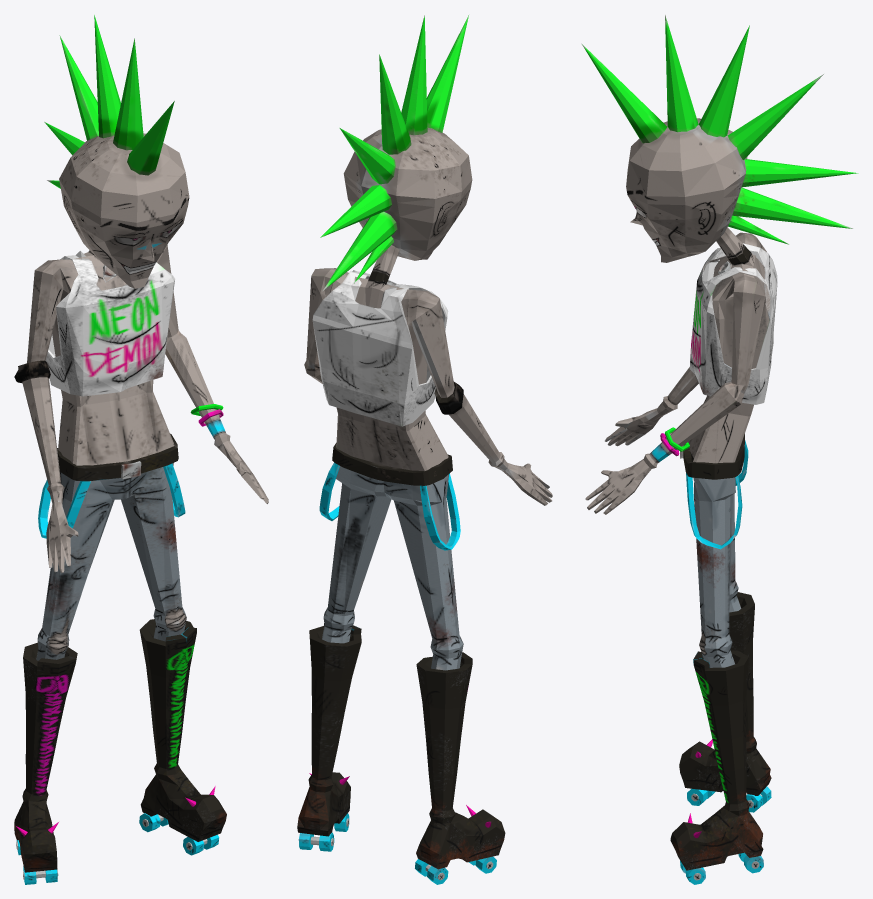
Rendered from punkAnimation_000002.obj.
The picture shows the model from 3 angles, left to right: view 1: azimuth 30°, elevation 25°; view 2: azimuth 150°, elevation 25°; view 3: azimuth 270°, elevation 25°; orthographic projection. The views are drawn at different scales.
Parts seen in each view (by area): view 1: Cube.004_Cube.003; view 2: Cube.004_Cube.003; view 3: Cube.004_Cube.003.
Part boxes in pixels (x1,y1,x2,y2): Cube.004_Cube.003: (14,15,268,884); Cube.004_Cube.003: (297,15,552,884); Cube.004_Cube.003: (581,15,858,884).
Bounding box in the file's own units: 1.94 × 7.58 × 2.31.
